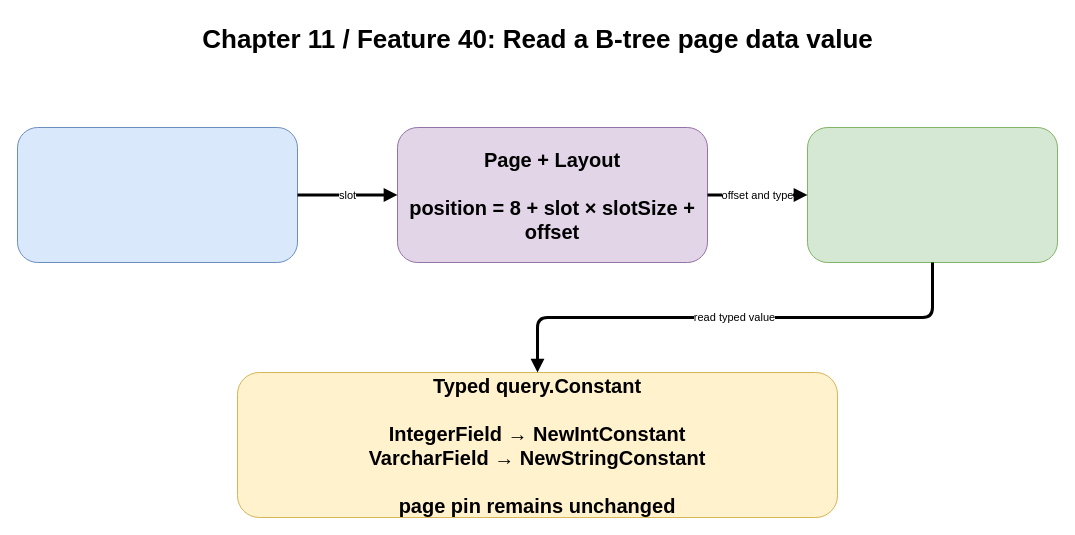
The diagram is 1075 pixels wide and 535 high, and some of its shapes have lost their labels. The box of each missing label's shape, as (x1, y1, x2, y2) in pixels:
Caller GetDataVal(slot): (16, 126, 298, 262)
Transaction GetInt / GetString: (806, 126, 1058, 262)
